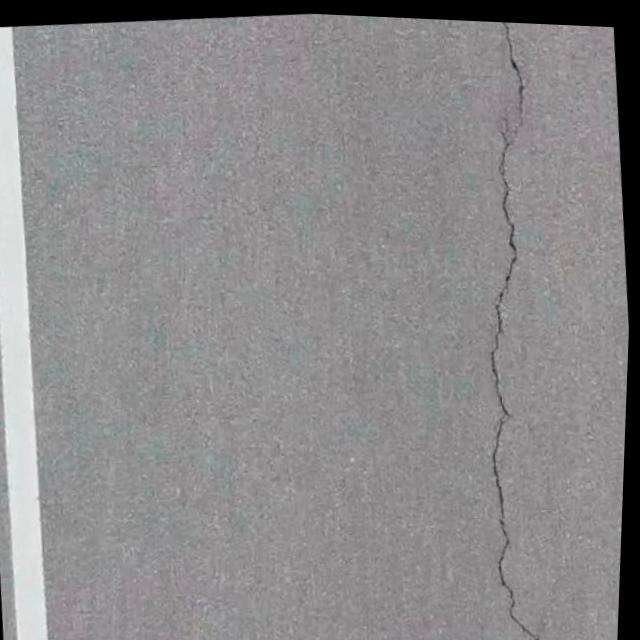Crack: (469, 17, 569, 476)
